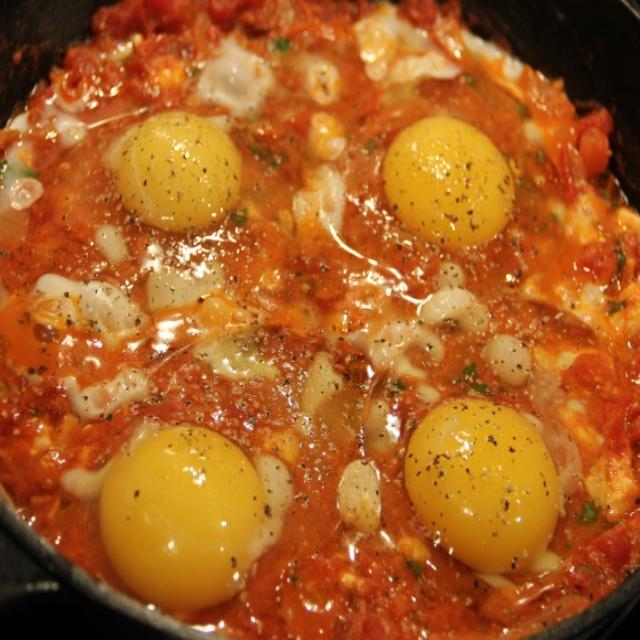EGG: (0, 1, 639, 637)
